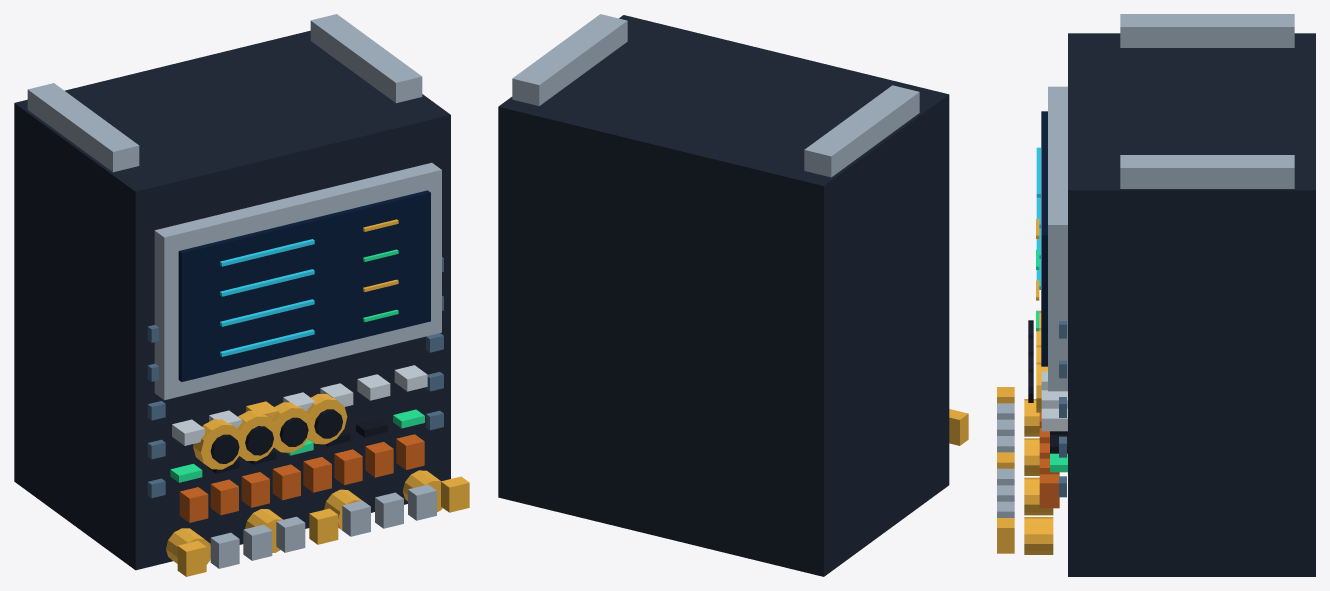
File: 74_L85_ElectricalTerminalDiagnosticRack.fbx
3 renders of one model, left to right at view 1: azimuth 30°, elevation 25°; view 2: azimuth 150°, elevation 25°; view 3: azimuth 270°, elevation 25°, orthographic. The views are drawn at different scales.
Visible parts, largest first — view 1: L85_ElectricalTerminalDiagnosticRack, L85_ElectricalTerminalDiagnosticRack_Part_0010, L85_ElectricalTerminalDiagnosticRack_Part_0012, L85_ElectricalTerminalDiagnosticRack_Part_0014, L85_ElectricalTerminalDiagnosticRack_Part_0016, L85_ElectricalTerminalDiagnosticRack_Part_0017, L85_ElectricalTerminalDiagnosticRack_Part_0011, L85_ElectricalTerminalDiagnosticRack_Part_0013, L85_ElectricalTerminalDiagnosticRack_Part_0015; view 2: L85_ElectricalTerminalDiagnosticRack; view 3: L85_ElectricalTerminalDiagnosticRack.
Part boxes in pixels (<box>): L85_ElectricalTerminalDiagnosticRack: <box>14,14,469,576</box>; L85_ElectricalTerminalDiagnosticRack_Part_0010: <box>193,419,243,469</box>; L85_ElectricalTerminalDiagnosticRack_Part_0012: <box>237,410,278,461</box>; L85_ElectricalTerminalDiagnosticRack_Part_0014: <box>271,402,312,452</box>; L85_ElectricalTerminalDiagnosticRack_Part_0016: <box>306,393,347,444</box>; L85_ElectricalTerminalDiagnosticRack_Part_0017: <box>314,409,342,438</box>; L85_ElectricalTerminalDiagnosticRack_Part_0011: <box>210,434,239,463</box>; L85_ElectricalTerminalDiagnosticRack_Part_0013: <box>245,426,273,455</box>; L85_ElectricalTerminalDiagnosticRack_Part_0015: <box>279,417,308,446</box>; L85_ElectricalTerminalDiagnosticRack: <box>498,14,968,576</box>; L85_ElectricalTerminalDiagnosticRack: <box>997,14,1315,576</box>.
Bounding box in the file's own units: 95.88 × 116 × 82.21.
